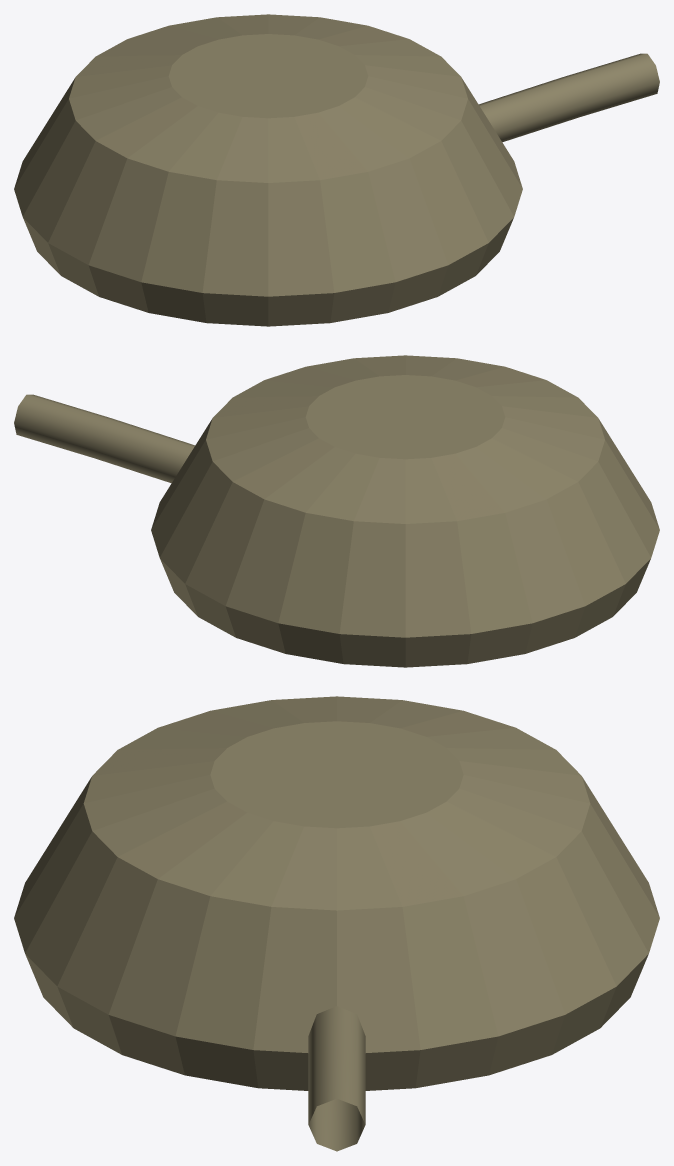
Rendered from GoblinPan.glb.
The picture shows the model from 3 angles, top to bottom: view 1: azimuth 30°, elevation 25°; view 2: azimuth 150°, elevation 25°; view 3: azimuth 270°, elevation 25°; orthographic projection. The views are drawn at different scales.
Visible parts, largest first — view 1: GoblinPan; view 2: GoblinPan; view 3: GoblinPan.
Part boxes in pixels (<box>): GoblinPan: <box>14,14,659,326</box>; GoblinPan: <box>14,355,659,667</box>; GoblinPan: <box>14,696,659,1151</box>.
Bounding box in the file's own units: 1.39 × 0.33 × 1.02.
